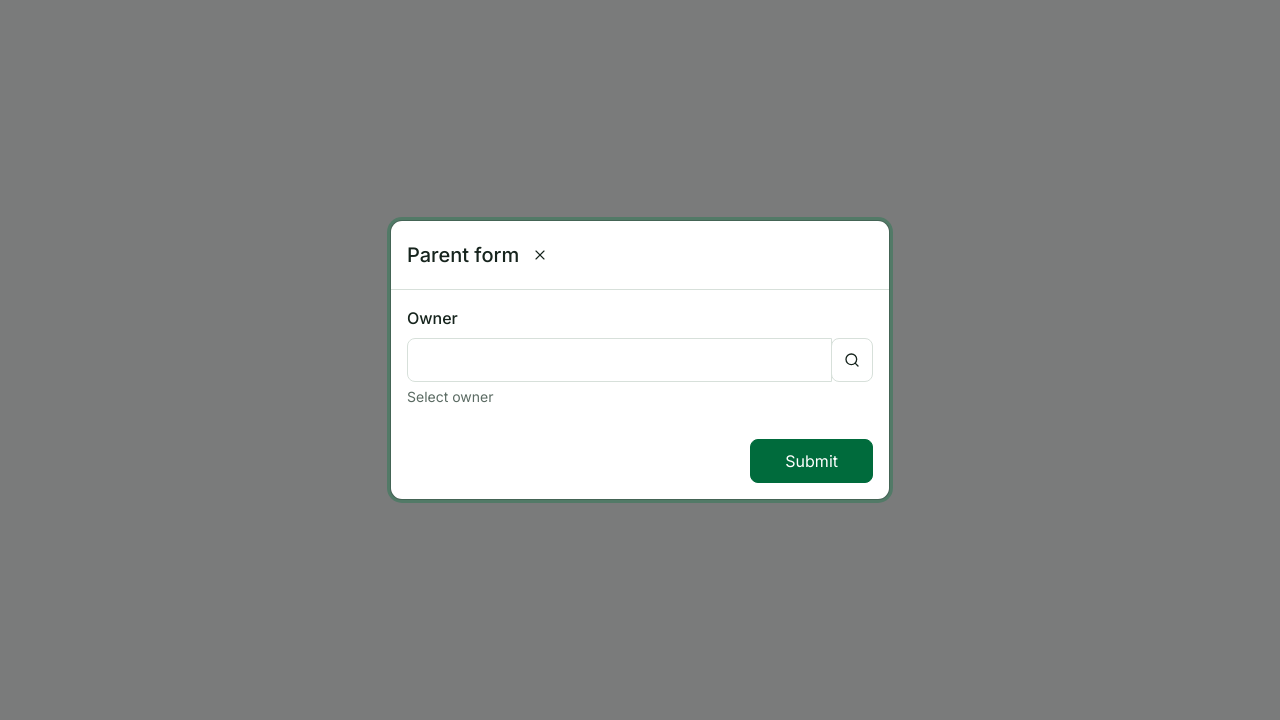
Test case: Unmounting nested dialogs restores original body scrolling
The width and height of the screenshot is (1280, 720).
Click the button named "Lookup Owner" at [852, 360], box x1=831 y1=338 x2=873 y2=382
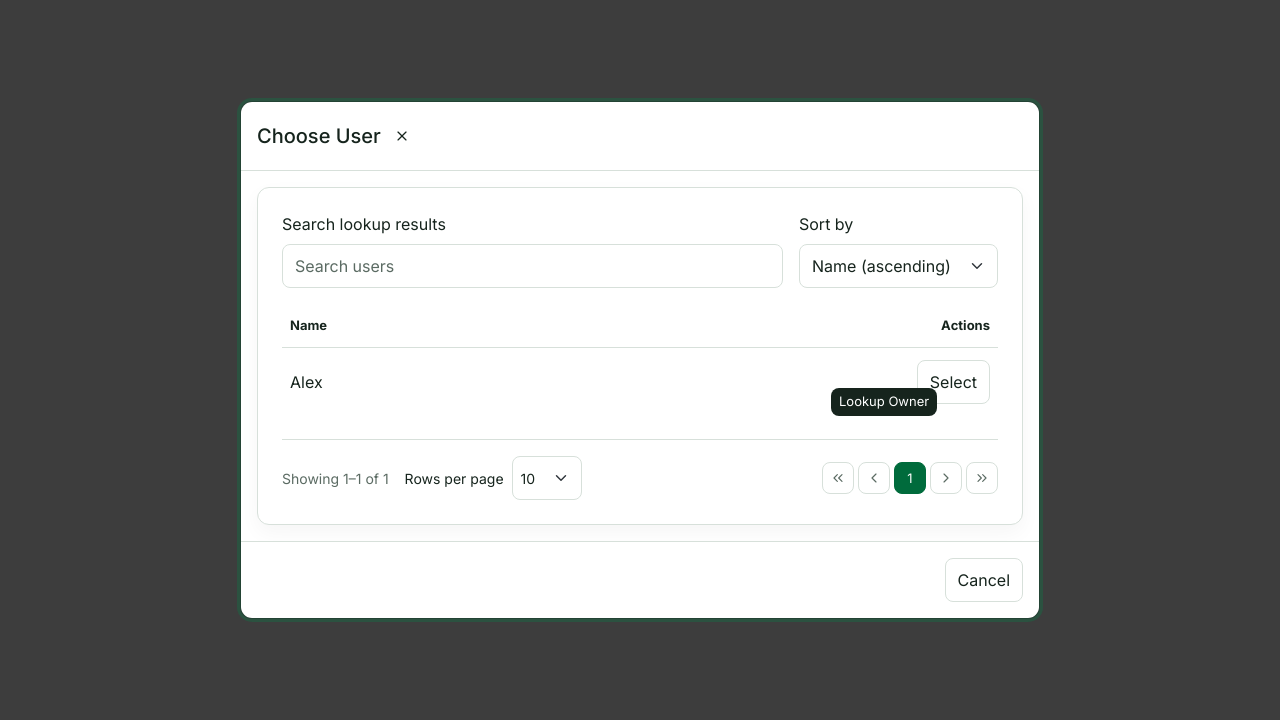
Check: the dialog "Choose User" is shown, box x1=240 y1=28 x2=1040 y2=692
